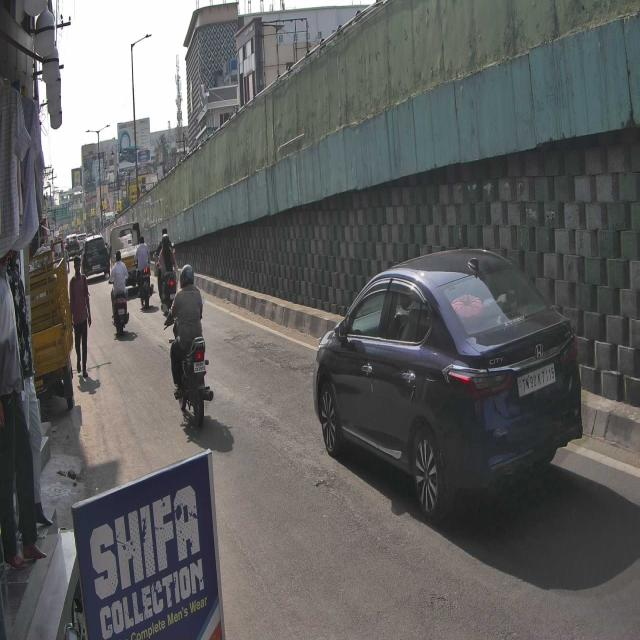single_rider: (160, 261, 217, 429)
